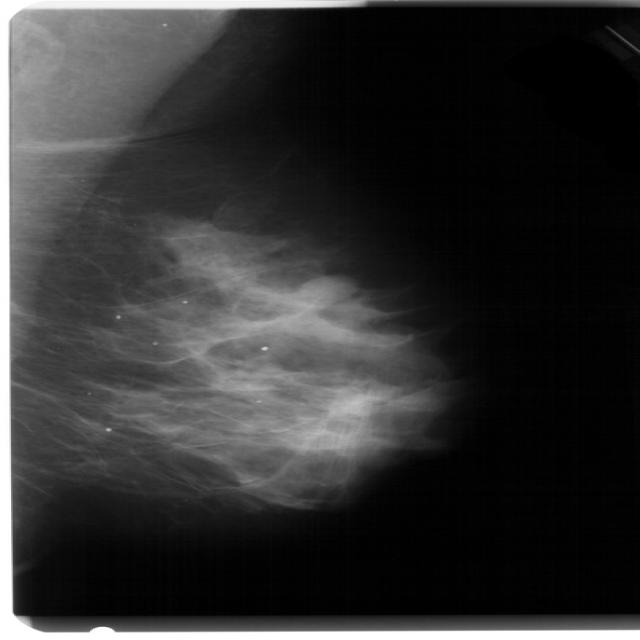tumour: (297, 272, 354, 305)
